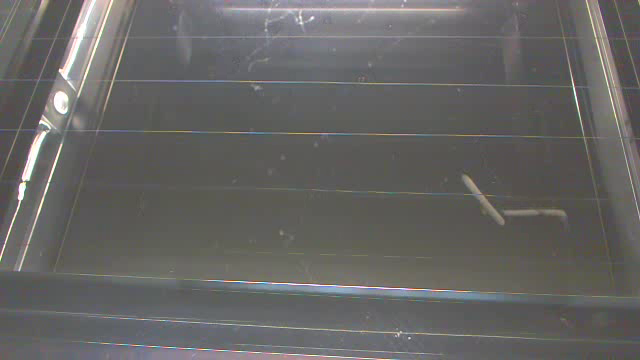alpha: (459, 172, 505, 226), (500, 205, 569, 225)
